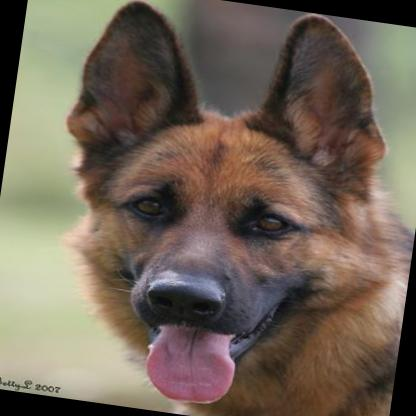German_shepherd: (22, 0, 416, 416)
